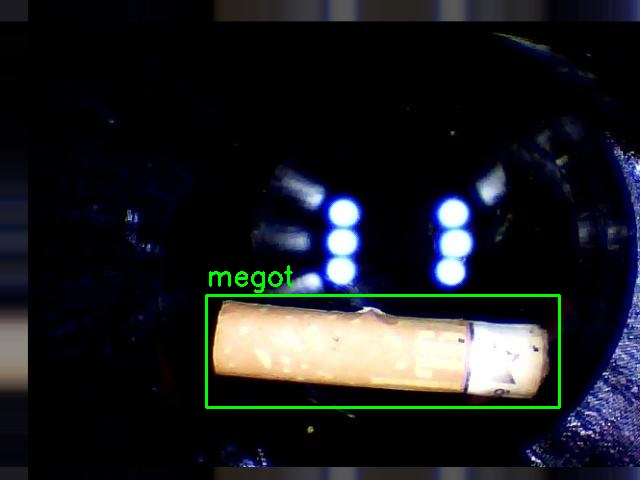megot: (206, 295, 559, 407)
